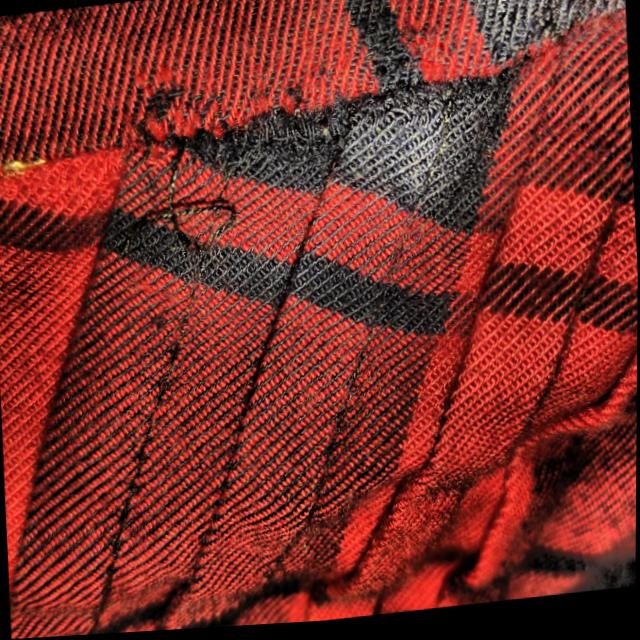Stitch: (121, 39, 364, 260)
